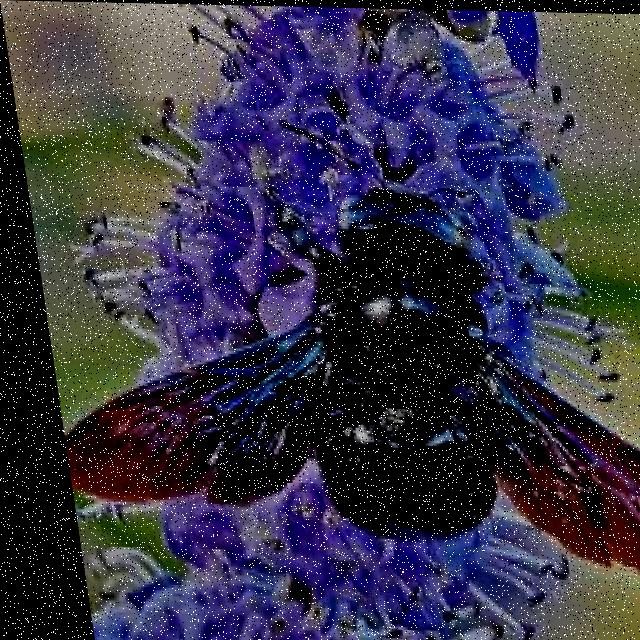Xylocopa: (23, 153, 640, 596)
